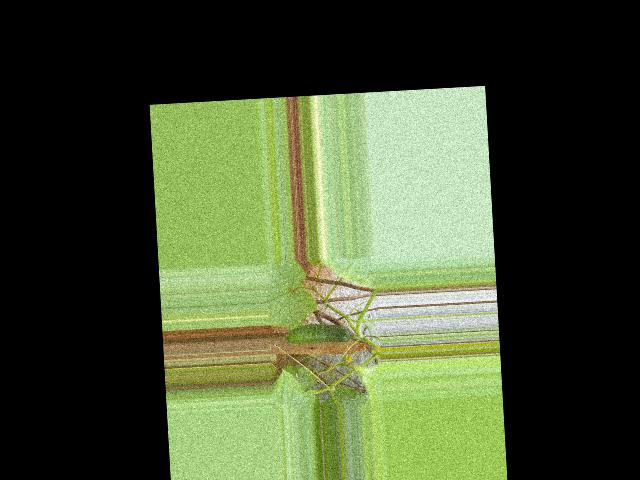cucumber: (284, 322, 351, 346)
